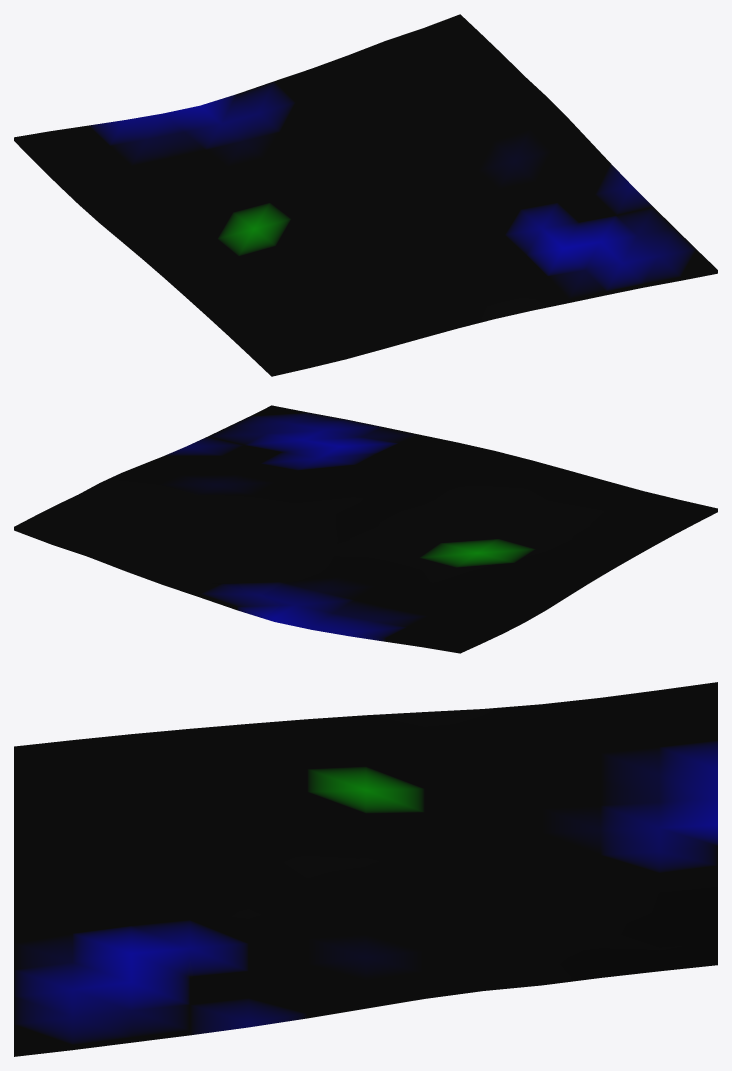
The model's file is coast_1_0.glb.
3 renders of one model, top to bottom at view 1: azimuth 30°, elevation 25°; view 2: azimuth 150°, elevation 25°; view 3: azimuth 270°, elevation 25°, orthographic. The views are drawn at different scales.
Parts seen in each view (by area): view 1: terrain; view 2: terrain; view 3: terrain.
Boxes of the visible parts, bbox=[...] form: terrain: bbox=[14, 14, 717, 376]; terrain: bbox=[14, 405, 717, 653]; terrain: bbox=[14, 682, 717, 1056].
Bounding box in the file's own units: 192 × 29.11 × 192.
